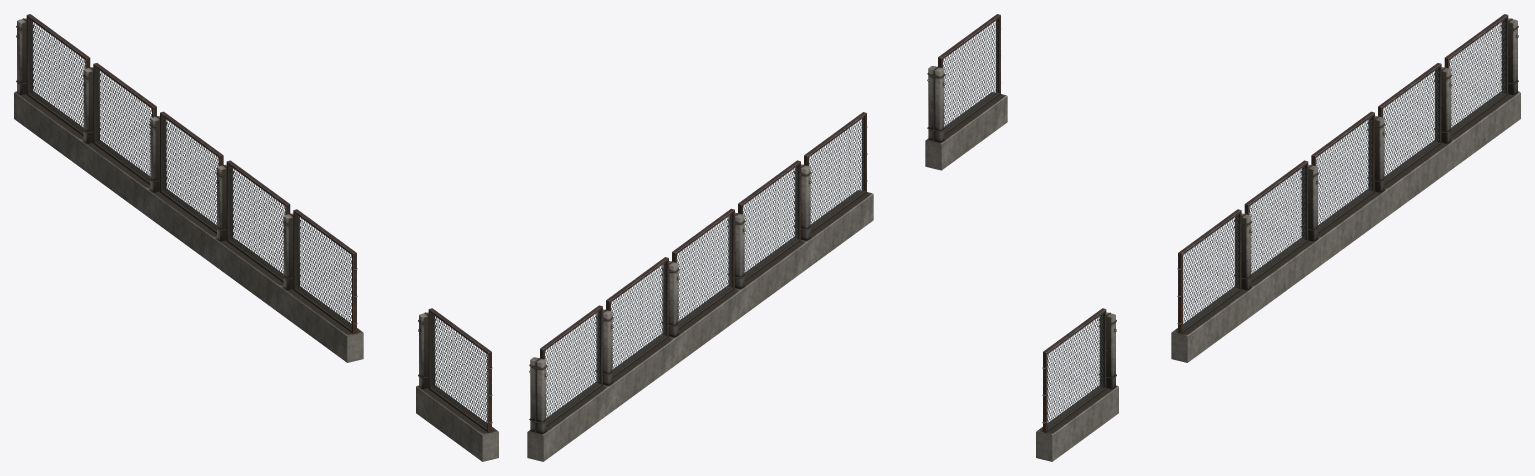
File: fance_17mb.glb
3 renders of one model, left to right at view 1: azimuth 30°, elevation 25°; view 2: azimuth 150°, elevation 25°; view 3: azimuth 330°, elevation 25°, orthographic.
Visible parts, largest first — view 1: Cloner, Null; view 2: Cloner, Null; view 3: Cloner, Null.
Boxes of the visible parts, left/top/right/bottom form: Cloner: left=14, top=14, right=363, bottom=362; Null: left=416, top=308, right=498, bottom=461; Cloner: left=527, top=112, right=873, bottom=461; Null: left=925, top=14, right=1007, bottom=170; Cloner: left=1171, top=14, right=1520, bottom=362; Null: left=1036, top=308, right=1118, bottom=461.
Bounding box in the file's own units: 47.54 × 268 × 2121.
Materials: 2 (2 with a texture image).
